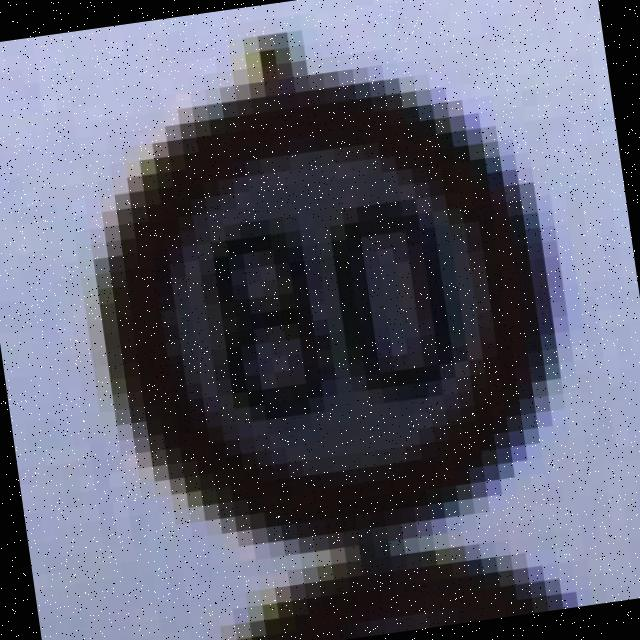Ograniczenie predkosci do 80: (84, 68, 575, 565)
